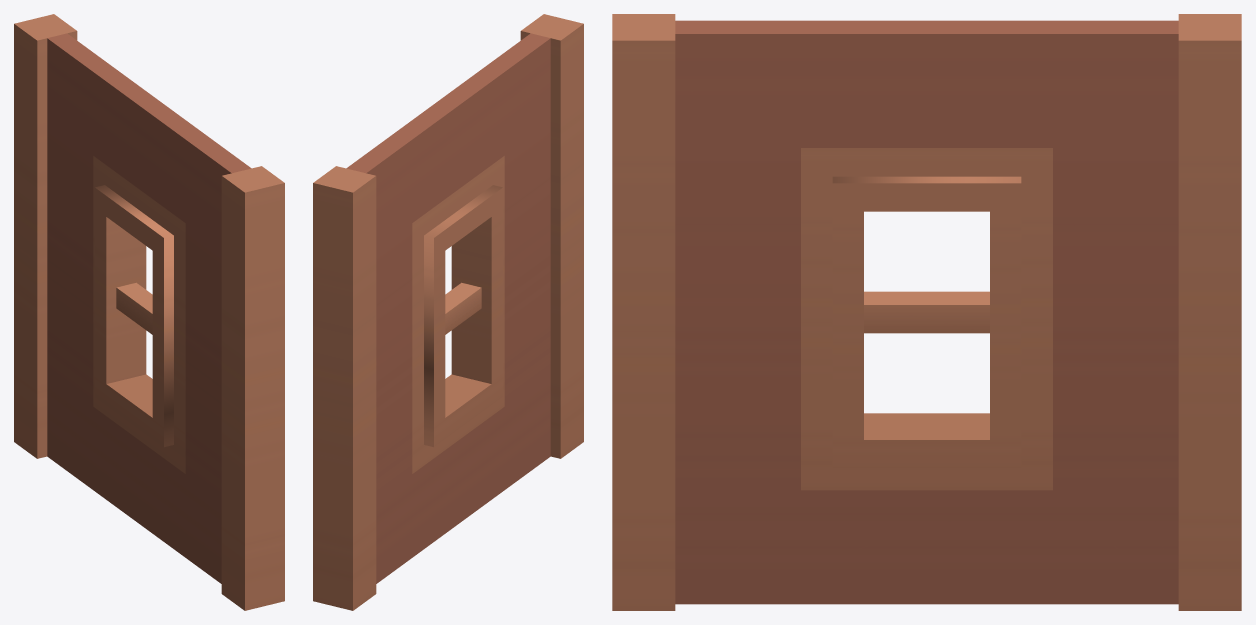
The model's file is wall-wood-window-glass.fbx.
3 views of the same model, side by side, from view 1: azimuth 30°, elevation 25°; view 2: azimuth 150°, elevation 25°; view 3: azimuth 270°, elevation 25° (orthographic). The views are drawn at different scales.
Visible parts, largest first — view 1: wall-wood-window-glass; view 2: wall-wood-window-glass; view 3: wall-wood-window-glass.
Boxes of the visible parts, bbox=[...] form: wall-wood-window-glass: bbox=[14, 14, 284, 610]; wall-wood-window-glass: bbox=[313, 14, 583, 610]; wall-wood-window-glass: bbox=[612, 14, 1241, 610].
Size of the model in its own units: 10 by 100 by 100.
Materials: 1 (1 with a texture image).
